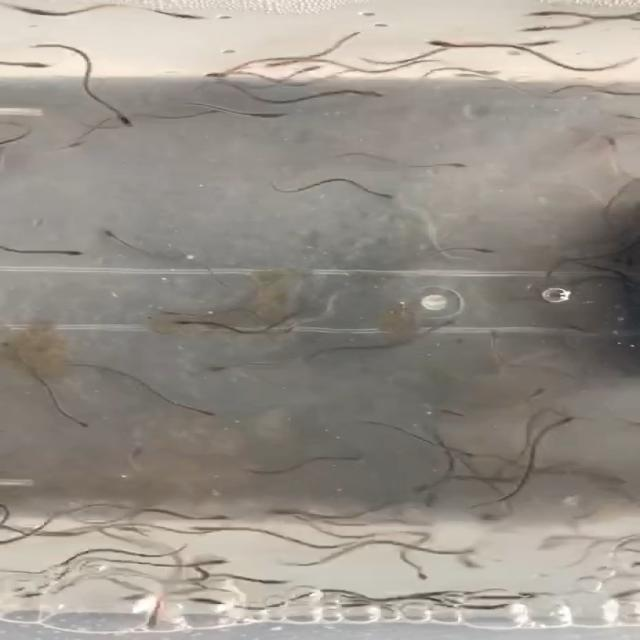active_glass_eel: (104, 108, 146, 130), (48, 138, 96, 156), (242, 102, 290, 120), (350, 85, 391, 101), (474, 510, 515, 526), (190, 67, 240, 80), (14, 60, 53, 76), (188, 10, 232, 24), (180, 593, 220, 608), (200, 362, 242, 376), (120, 441, 148, 462), (138, 608, 164, 630), (411, 478, 446, 494), (342, 447, 368, 468), (445, 542, 484, 556), (598, 133, 625, 153), (98, 226, 130, 242), (261, 53, 297, 67), (550, 412, 578, 430), (526, 38, 564, 51), (524, 384, 547, 405), (195, 555, 232, 568), (152, 308, 192, 320), (448, 442, 478, 458), (461, 243, 495, 257), (452, 472, 488, 485), (455, 554, 481, 572), (57, 552, 86, 568), (189, 405, 219, 420), (14, 590, 46, 604), (425, 38, 459, 51), (516, 22, 556, 33), (279, 320, 308, 335), (431, 318, 462, 332), (612, 109, 640, 124), (65, 414, 95, 428), (188, 522, 223, 534), (110, 592, 148, 603), (439, 158, 468, 172), (55, 247, 84, 261), (522, 8, 562, 18), (403, 565, 428, 581), (168, 317, 201, 329), (259, 576, 293, 587), (438, 408, 469, 420), (562, 320, 588, 334), (370, 188, 400, 200), (206, 513, 235, 525), (607, 249, 627, 266), (485, 326, 505, 342), (294, 64, 320, 76), (618, 251, 636, 268), (600, 476, 630, 486)
